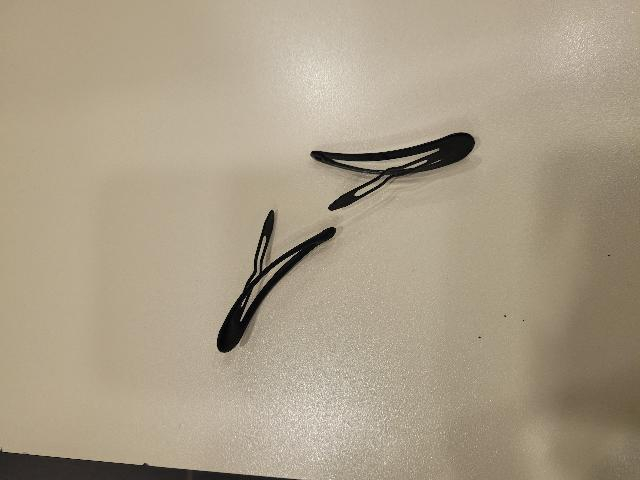Metal: (214, 202, 339, 365), (307, 114, 475, 220)
